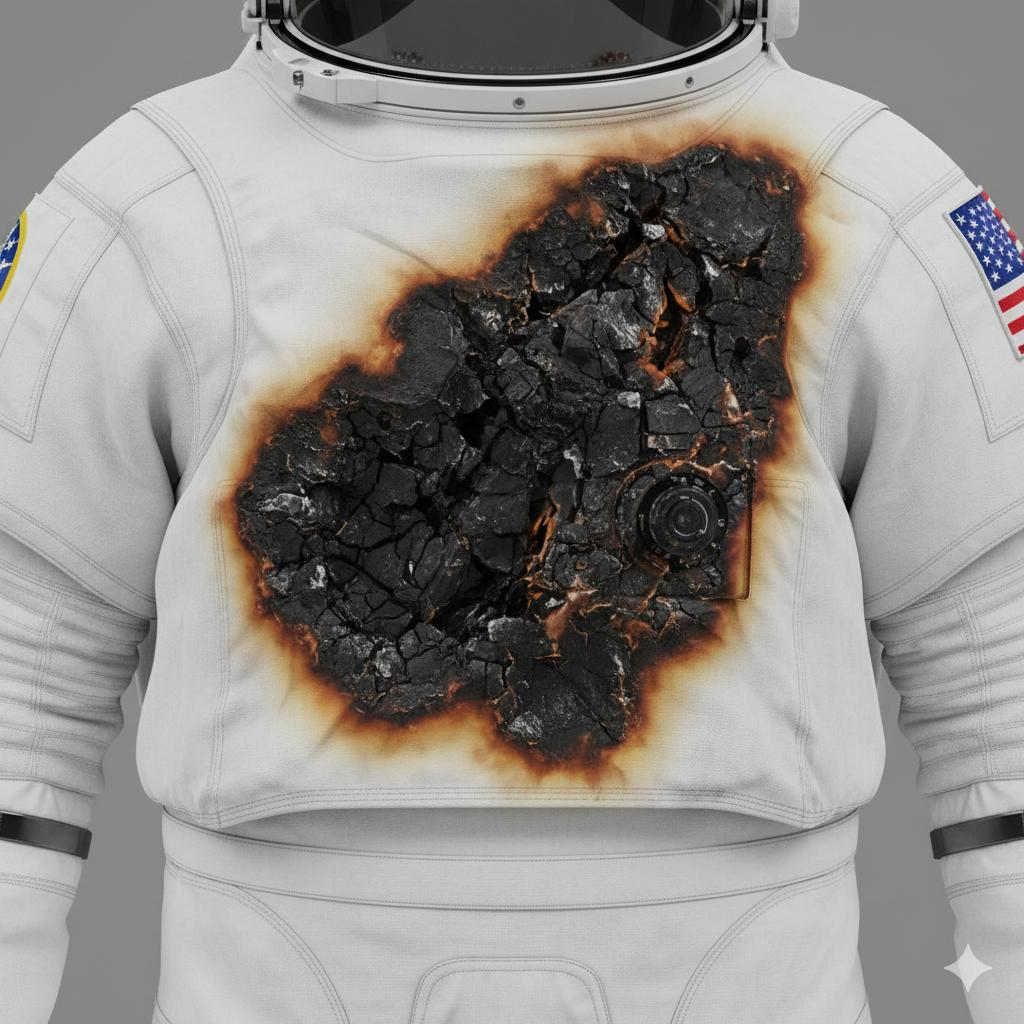burn: (187, 153, 902, 780)
